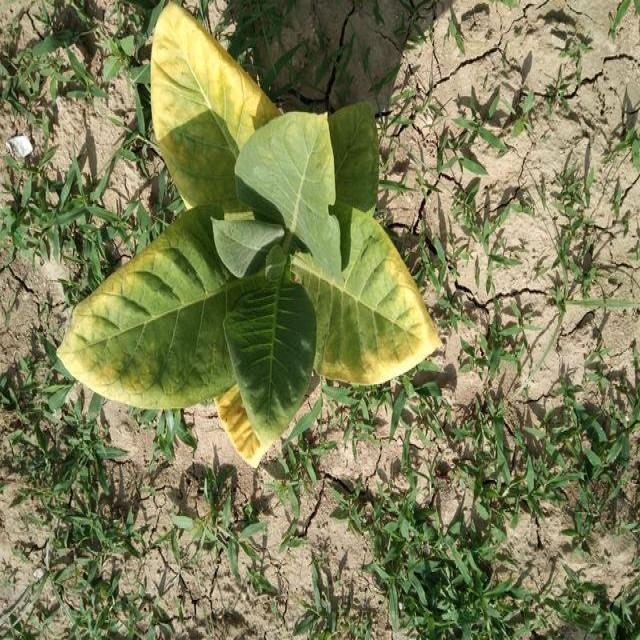crop: (63, 1, 447, 457)
